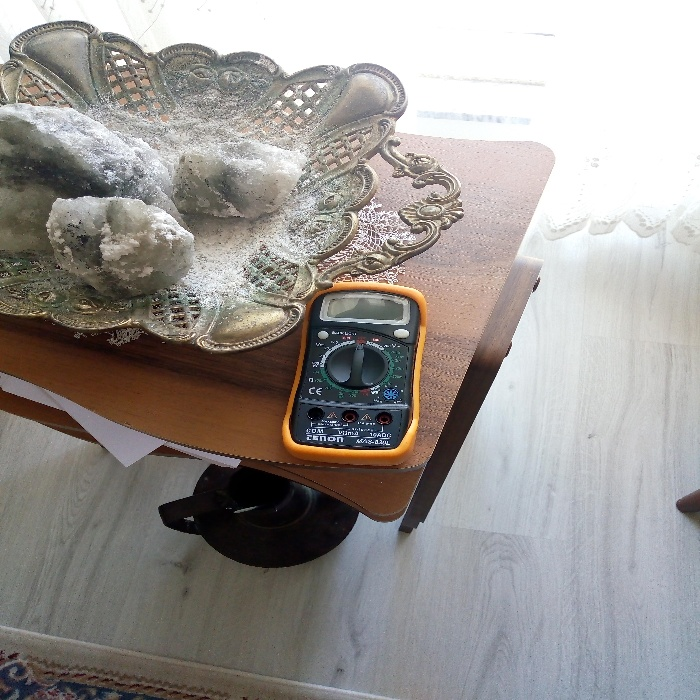multimetre: (272, 271, 439, 482)
